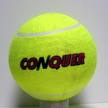tennis ball: (7, 9, 99, 100)
